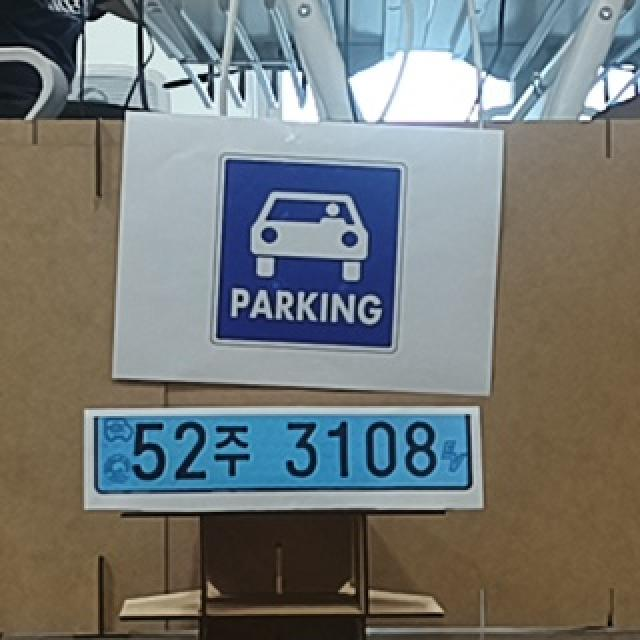electric: (92, 414, 471, 492)
